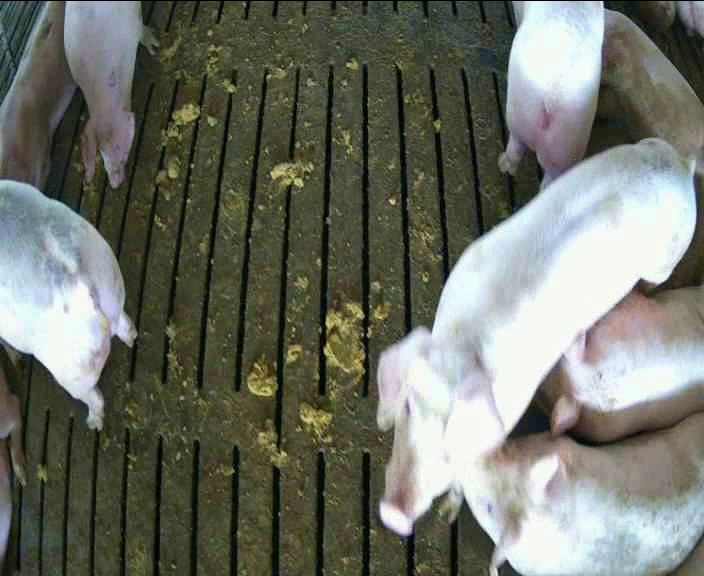pig: (378, 138, 694, 534), (460, 412, 703, 574), (539, 285, 703, 441), (499, 1, 603, 185), (587, 10, 703, 172), (64, 2, 158, 187), (0, 2, 75, 188)
